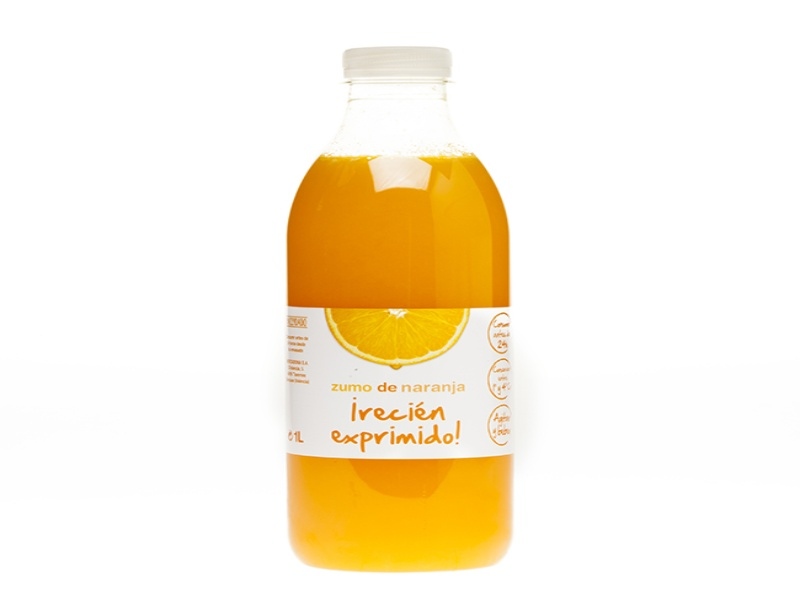Jugo de naranja: (286, 48, 515, 573)
